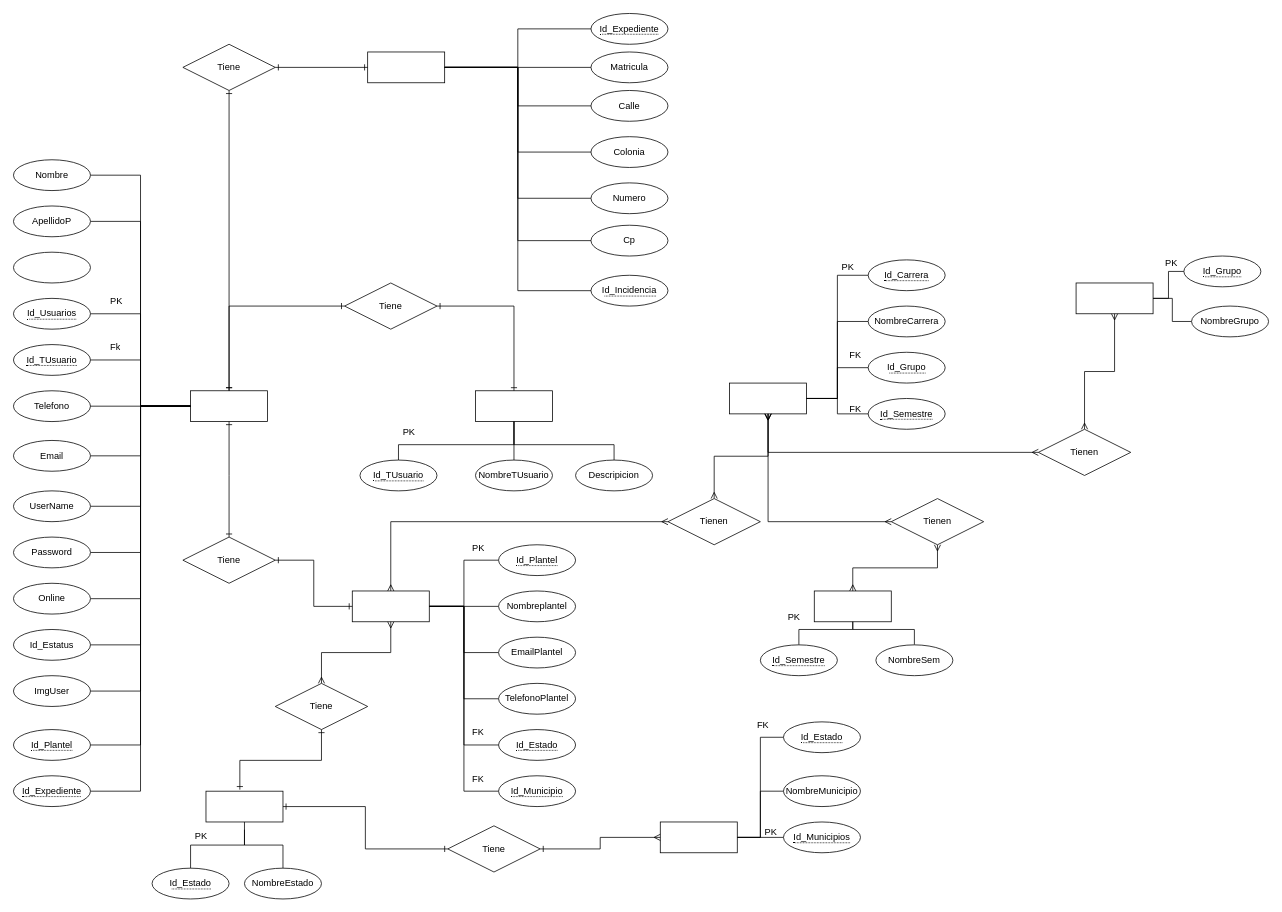
The diagram is 1282 pixels wide and 912 high, and some of its shapes have lost their labels. The centre of each missing label's shape, as x and y in pixels:
ApellidoM: [51,267]
Carreras: [768,398]
Estado: [244,806]
Expediente: [406,67]
Grupos: [1114,298]
Municipios: [698,837]
Planteles: [390,606]
Semestres: [852,606]
TUsuario: [513,406]
Usuarios: [229,406]
